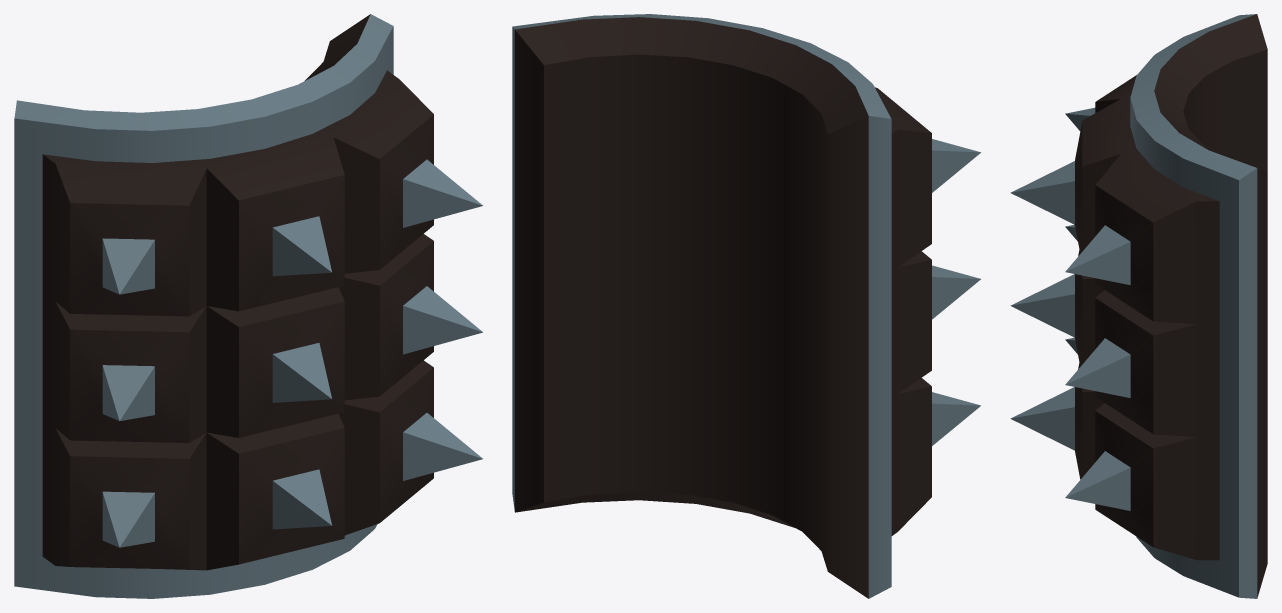
File: warriorShield.obj
The picture shows the model from 3 angles, left to right: view 1: azimuth 30°, elevation 25°; view 2: azimuth 150°, elevation 25°; view 3: azimuth 270°, elevation 25°; orthographic projection. The views are drawn at different scales.
Visible parts, largest first — view 1: warriorShield_Cylinder.281; view 2: warriorShield_Cylinder.281; view 3: warriorShield_Cylinder.281.
Part boxes in pixels (x1,y1,x2,y2): warriorShield_Cylinder.281: (14,14,482,598); warriorShield_Cylinder.281: (512,14,980,598); warriorShield_Cylinder.281: (1010,14,1267,598).
Bounding box in the file's own units: 0.7955 × 0.9689 × 0.5247.
